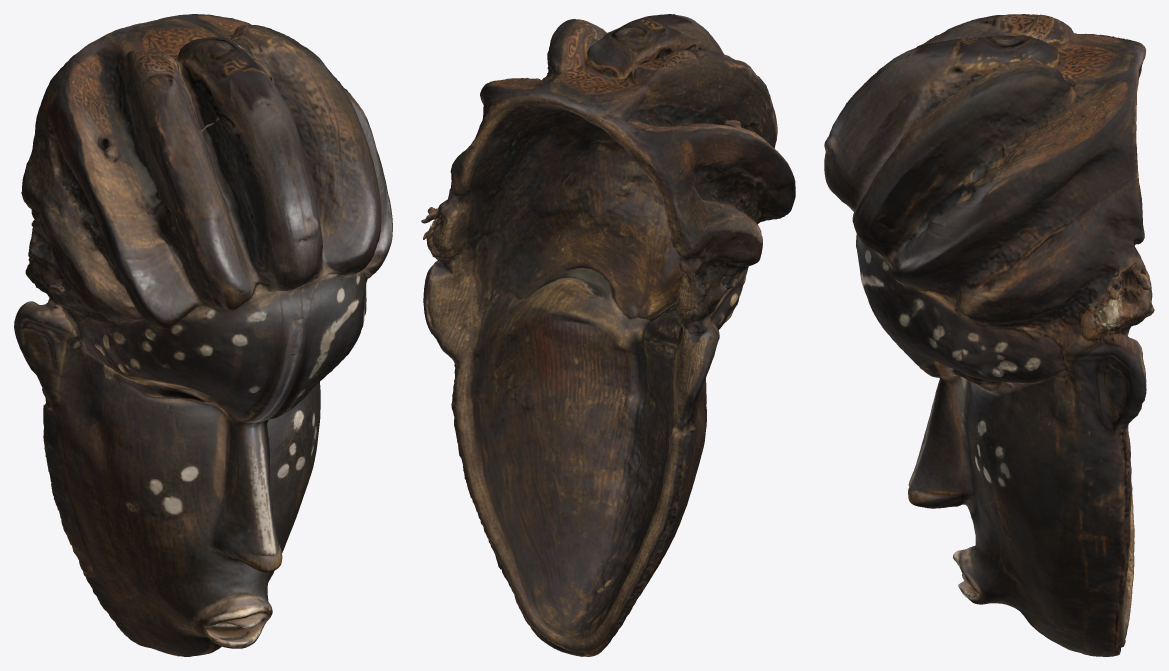
File: asset.glb
3 renders of one model, left to right at view 1: azimuth 30°, elevation 25°; view 2: azimuth 150°, elevation 25°; view 3: azimuth 270°, elevation 25°, orthographic. The views are drawn at different scales.
Bounding box in the file's own units: 1.01 × 2 × 0.9822.
1 material, 1 textured.
